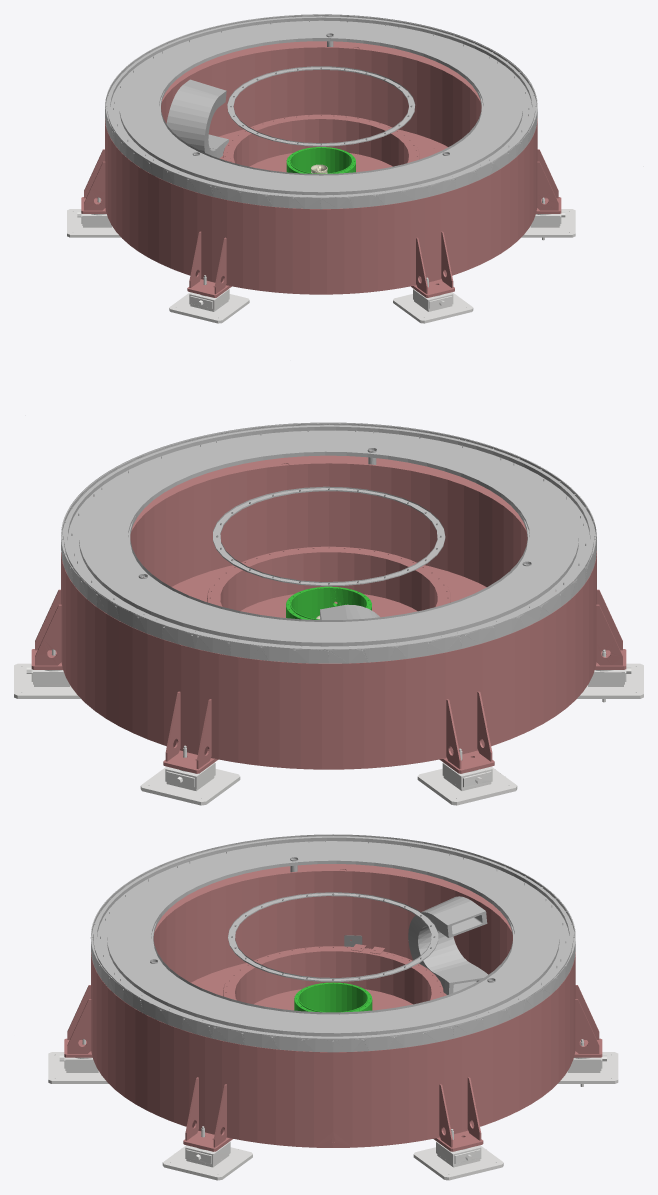
Rendered from pedestal.glb.
3 renders of one model, top to bottom at view 1: azimuth 30°, elevation 25°; view 2: azimuth 150°, elevation 25°; view 3: azimuth 270°, elevation 25°, orthographic. The views are drawn at different scales.
Parts seen in each view (by area): view 1: FraunhoferTeleskop.001; view 2: FraunhoferTeleskop.001; view 3: FraunhoferTeleskop.001.
Part boxes in pixels (bbox=[...]): FraunhoferTeleskop.001: bbox=[67, 14, 575, 323]; FraunhoferTeleskop.001: bbox=[14, 422, 643, 805]; FraunhoferTeleskop.001: bbox=[48, 834, 618, 1180].
Size of the model in its own units: 36.72 by 9.49 by 36.76.
